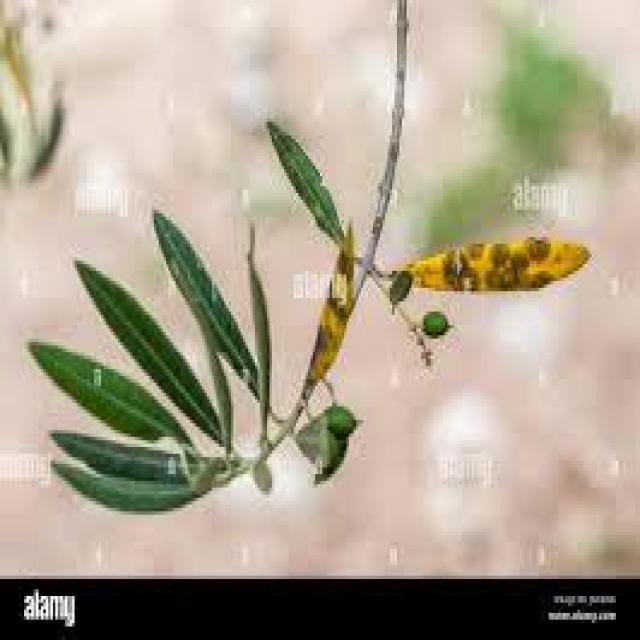Peacock Eye: (399, 237, 589, 288), (303, 223, 358, 396)
